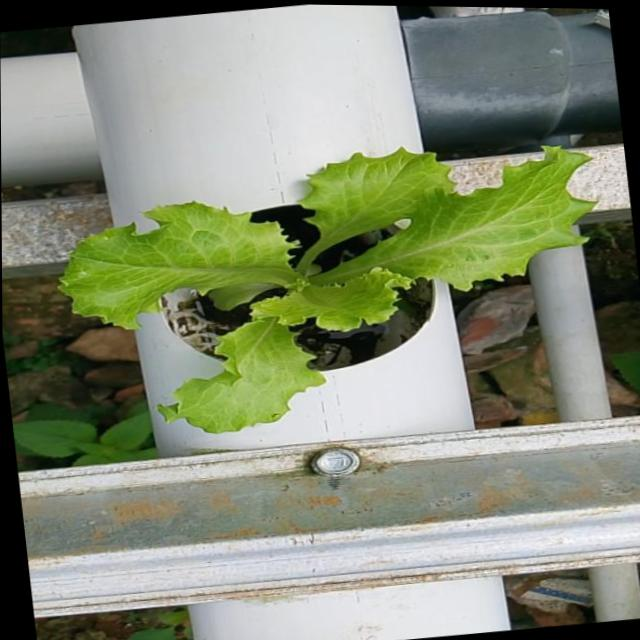Baby: (58, 145, 595, 432)
